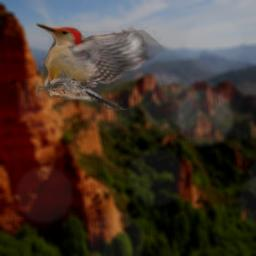Woodpecker: (36, 22, 166, 110)
